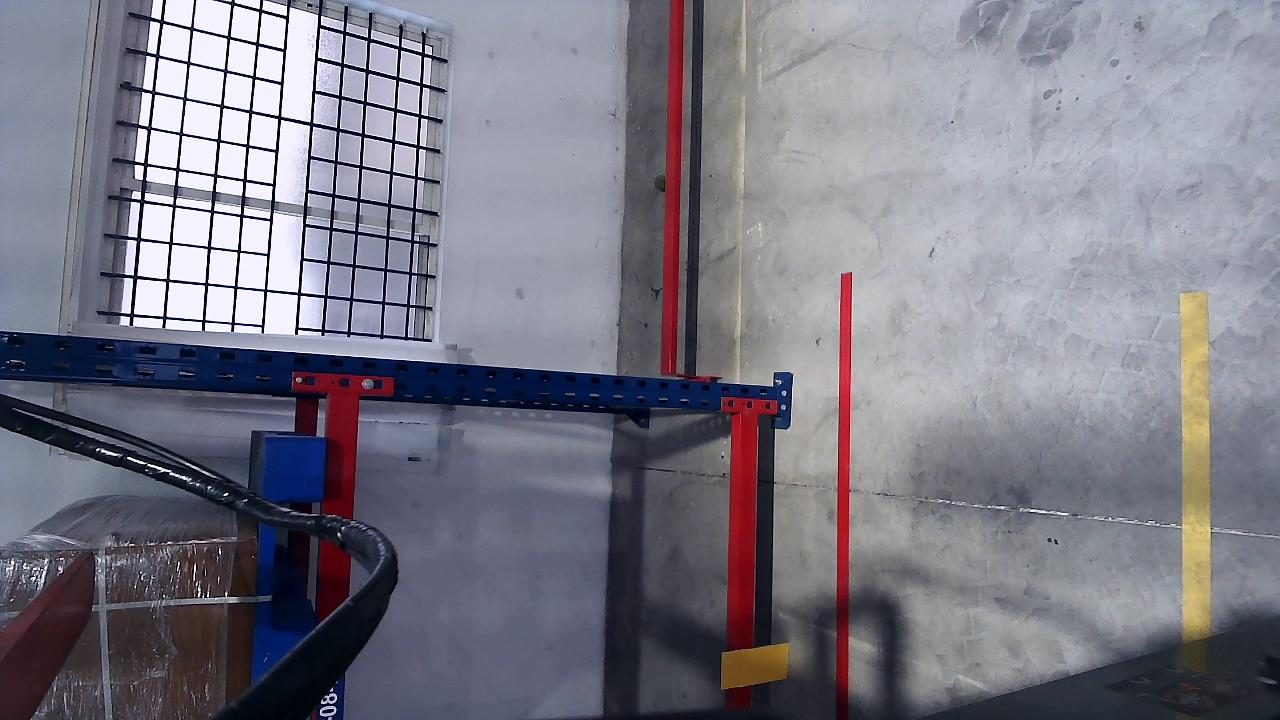h_rack: (310, 394, 357, 720), (728, 412, 761, 712)
orange_strip: (720, 642, 788, 689)
red_line: (833, 271, 852, 719)
yellow_line: (1180, 298, 1213, 635)
